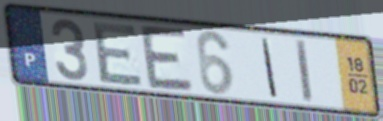3: (49, 16, 89, 82)
6: (194, 28, 239, 97)
E: (138, 22, 197, 95), (91, 20, 146, 87)
I: (293, 37, 315, 106), (259, 36, 280, 100)
